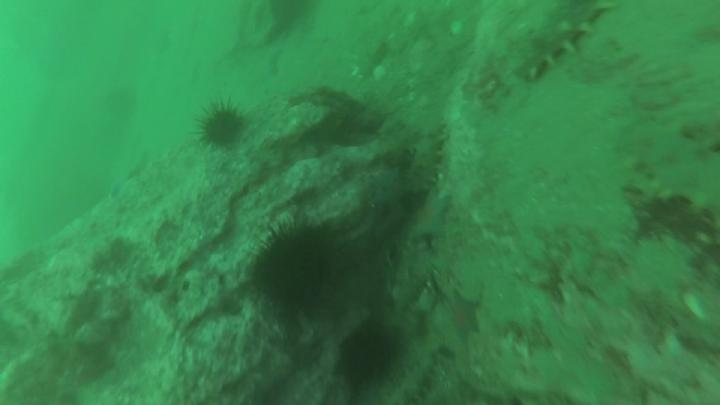echinus: (246, 217, 337, 308), (332, 321, 392, 389), (189, 99, 251, 154)
holothurian: (505, 1, 616, 87), (405, 107, 451, 185)
starfish: (440, 287, 487, 347), (408, 189, 453, 244)
